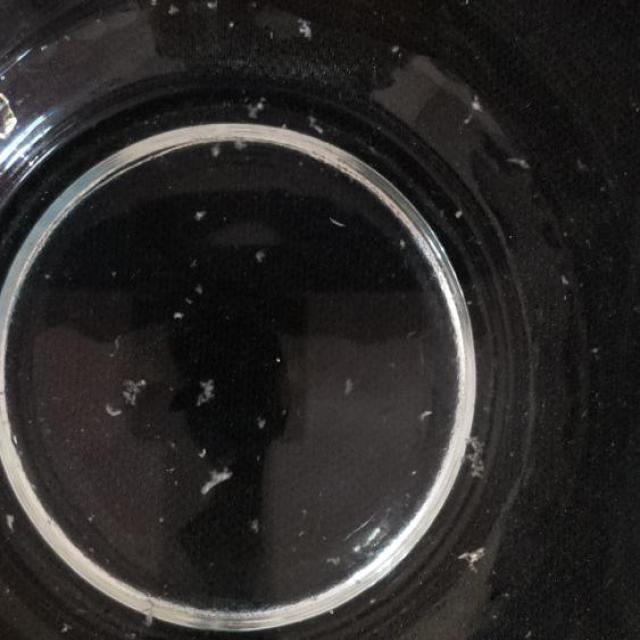fiber: (462, 428, 497, 484), (190, 366, 218, 418), (198, 465, 240, 499), (459, 532, 491, 576), (233, 88, 271, 124), (454, 92, 486, 134), (122, 372, 154, 410), (287, 10, 317, 44), (298, 106, 327, 136), (184, 195, 210, 228), (227, 128, 255, 158), (505, 143, 533, 173), (444, 196, 478, 220), (320, 207, 348, 236), (244, 511, 268, 541), (335, 366, 356, 400), (412, 399, 434, 429), (186, 442, 216, 464), (163, 0, 185, 27), (104, 394, 122, 426), (385, 38, 408, 63), (391, 231, 414, 256), (244, 417, 270, 438), (186, 279, 212, 298), (0, 507, 18, 532), (199, 0, 220, 19), (144, 0, 170, 15), (252, 244, 268, 267), (173, 300, 186, 328), (205, 142, 224, 161), (222, 18, 238, 38)
